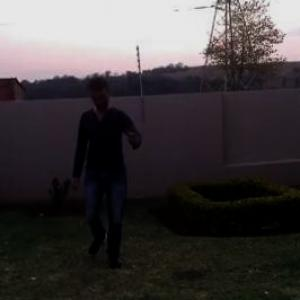takeoff-hand: (123, 122, 148, 157)
